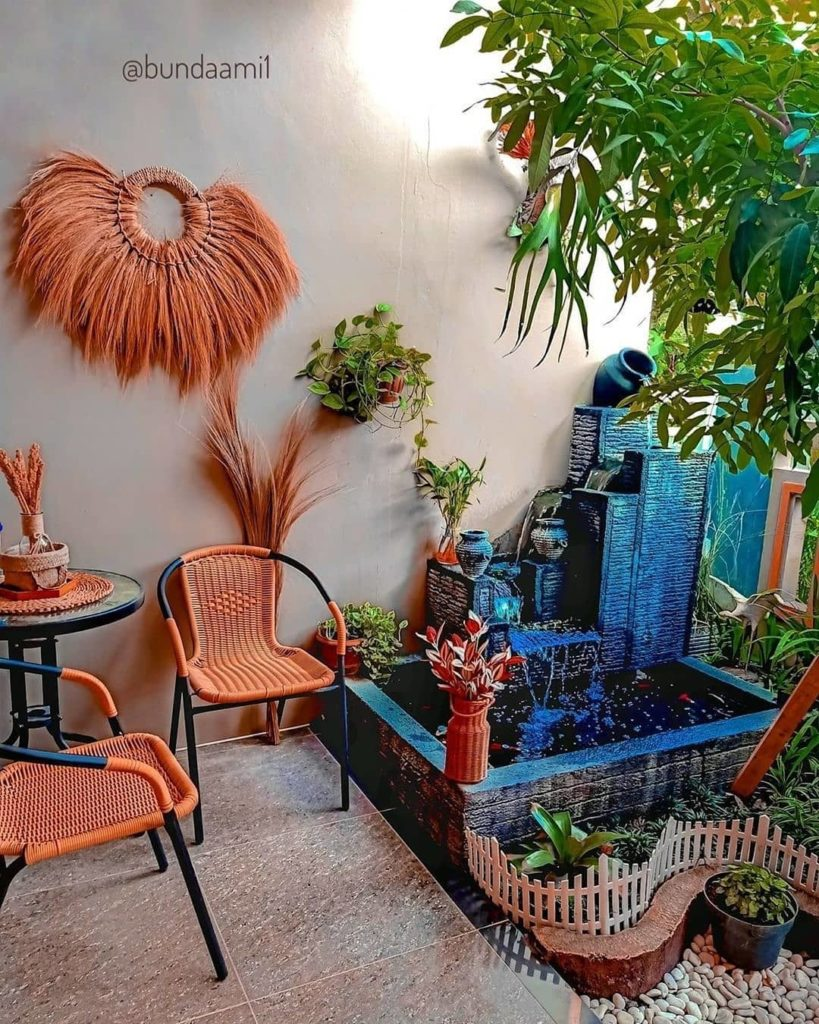kursi: (1, 656, 234, 982), (163, 540, 358, 831)
meja: (3, 569, 151, 712)
tanaman: (485, 1, 819, 460), (300, 298, 427, 428), (421, 618, 517, 786), (697, 857, 803, 971), (522, 804, 611, 891), (322, 595, 401, 681), (415, 451, 461, 562)
